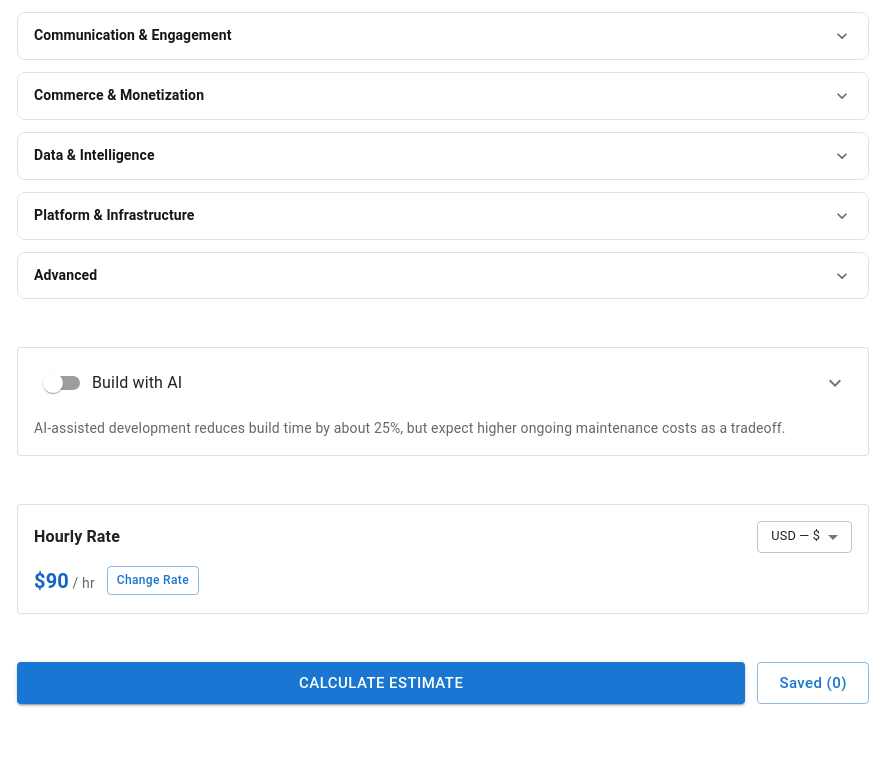
Scenario: CostEstimator › calculate flow › after timers run, results appear
(page scrolled)
Click the button "Calculate Estimate".
click(381, 683)  # box [17,662,745,704]
(page scrolled)
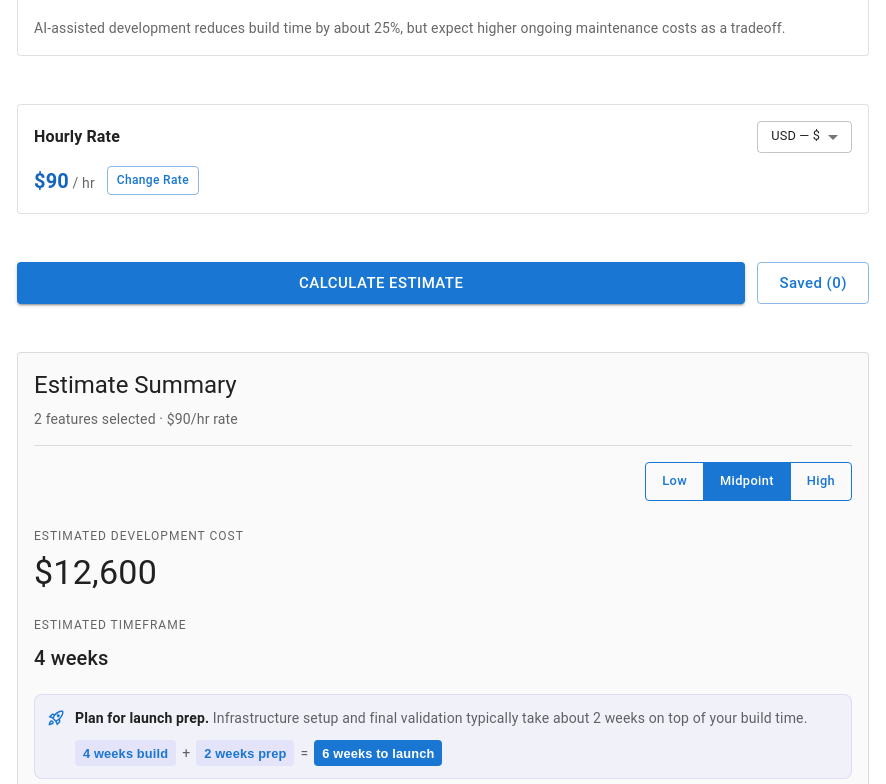
Check: the heading "Estimate Summary" is shown, box [34,371,237,399]
